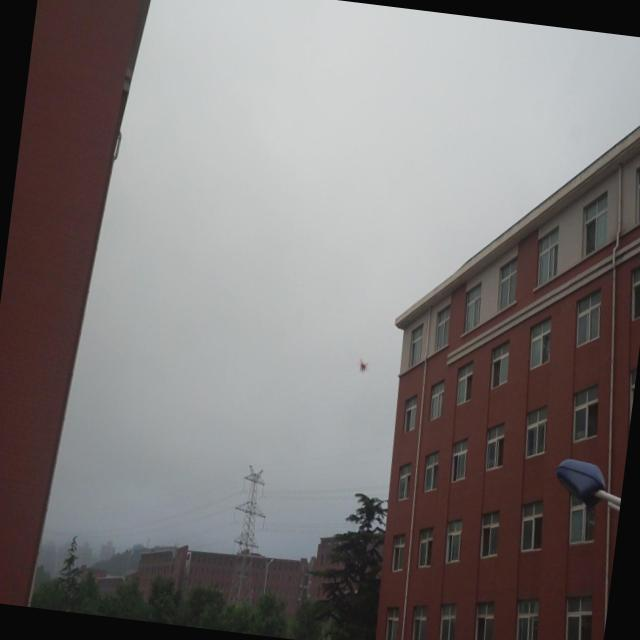drone: (356, 356, 370, 375)
